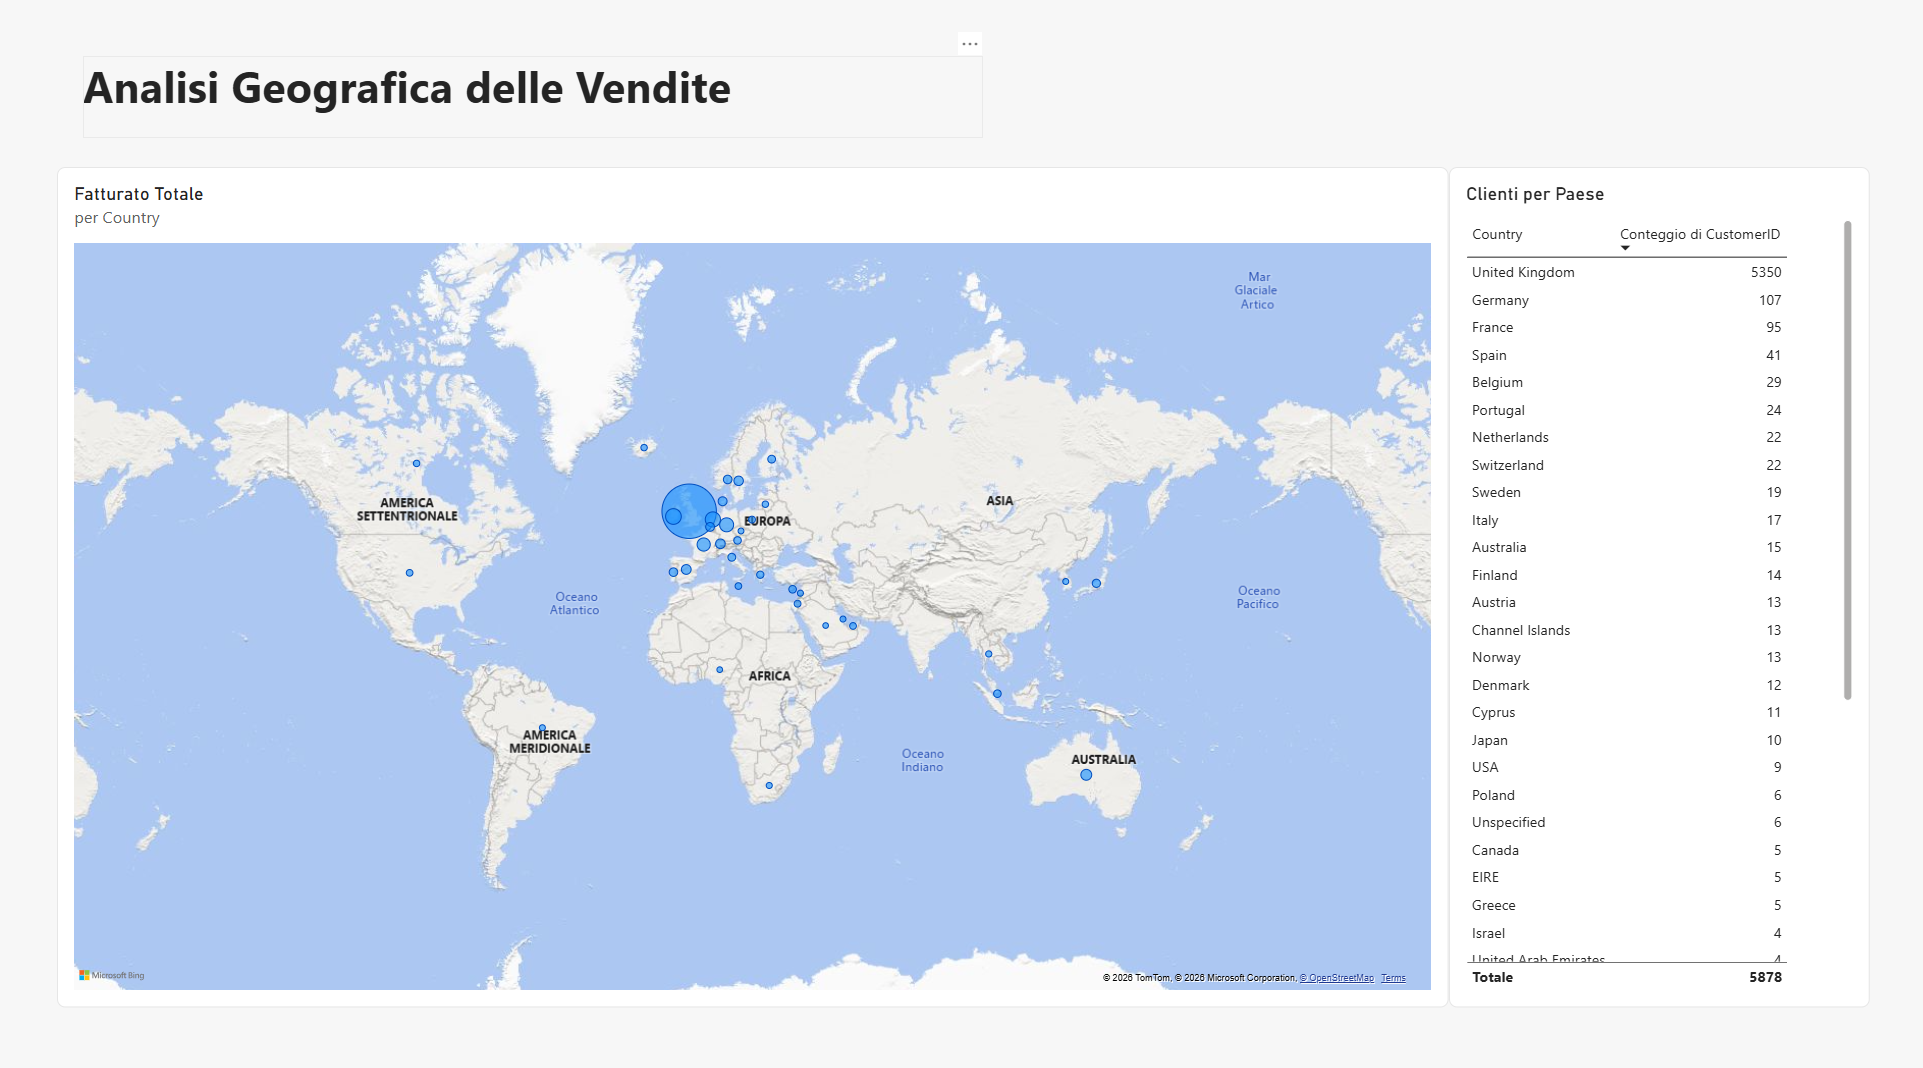

The page's visual inventory and layout, read from the dashboard file:
{"tool":"powerbi","page":{"name":"Geografia","canvas":[1920,1080],"ordinal":2},"visuals":[{"type":"map","fields":{"Category":["online_retail_clean.Country"],"Size":["customer_rfm.Fatturato Totale"]},"box":[63.8,175.7,1366.4,824.5],"z":0},{"type":"tableEx","title":"Clienti per Paese","fields":{"Values":["online_retail_clean.Country","online_retail_clean.CustomerID"]},"box":[1430.2,175.7,413.3,824.5],"z":1000},{"type":"textbox","box":[89.3,66.7,883.4,80.5],"z":2000}]}

Visuals, with their boxes in screenshot pixels (x1, y1, x2, y2), scaled from the page's 1920x1080 canvas onto the 1923x1068 screenshot:
map - online_retail_clean.Country x customer_rfm.Fatturato Totale: select_region(64, 174, 1432, 989)
"Clienti per Paese" tableEx: select_region(1432, 174, 1846, 989)
textbox: select_region(89, 66, 974, 146)
